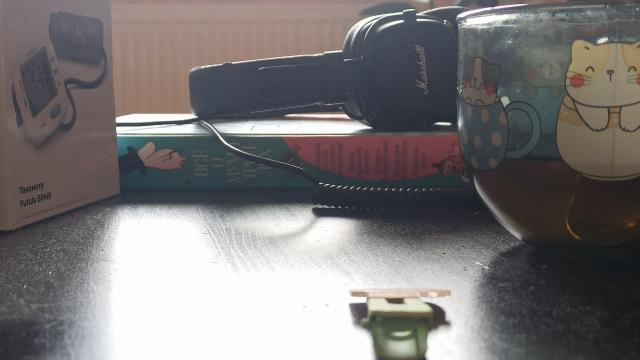book-s-spine: (117, 132, 479, 192)
